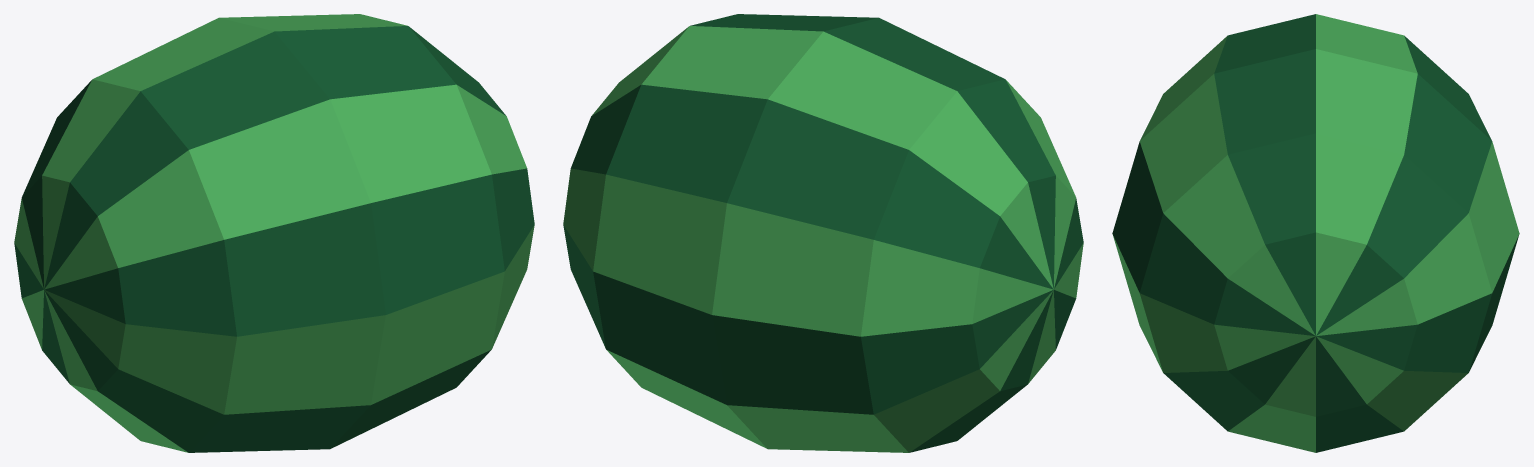
File: Watermelon.fbx
The picture shows the model from 3 angles, left to right: view 1: azimuth 30°, elevation 25°; view 2: azimuth 150°, elevation 25°; view 3: azimuth 270°, elevation 25°; orthographic projection. The views are drawn at different scales.
Parts seen in each view (by area): view 1: Watermelon; view 2: Watermelon; view 3: Watermelon.
Boxes of the visible parts, box(x1,y1,x2,y2) form: Watermelon: box(14, 14, 534, 452); Watermelon: box(563, 14, 1083, 452); Watermelon: box(1112, 14, 1519, 452).
Size of the model in its own units: 26.62 by 22.31 by 22.31.
